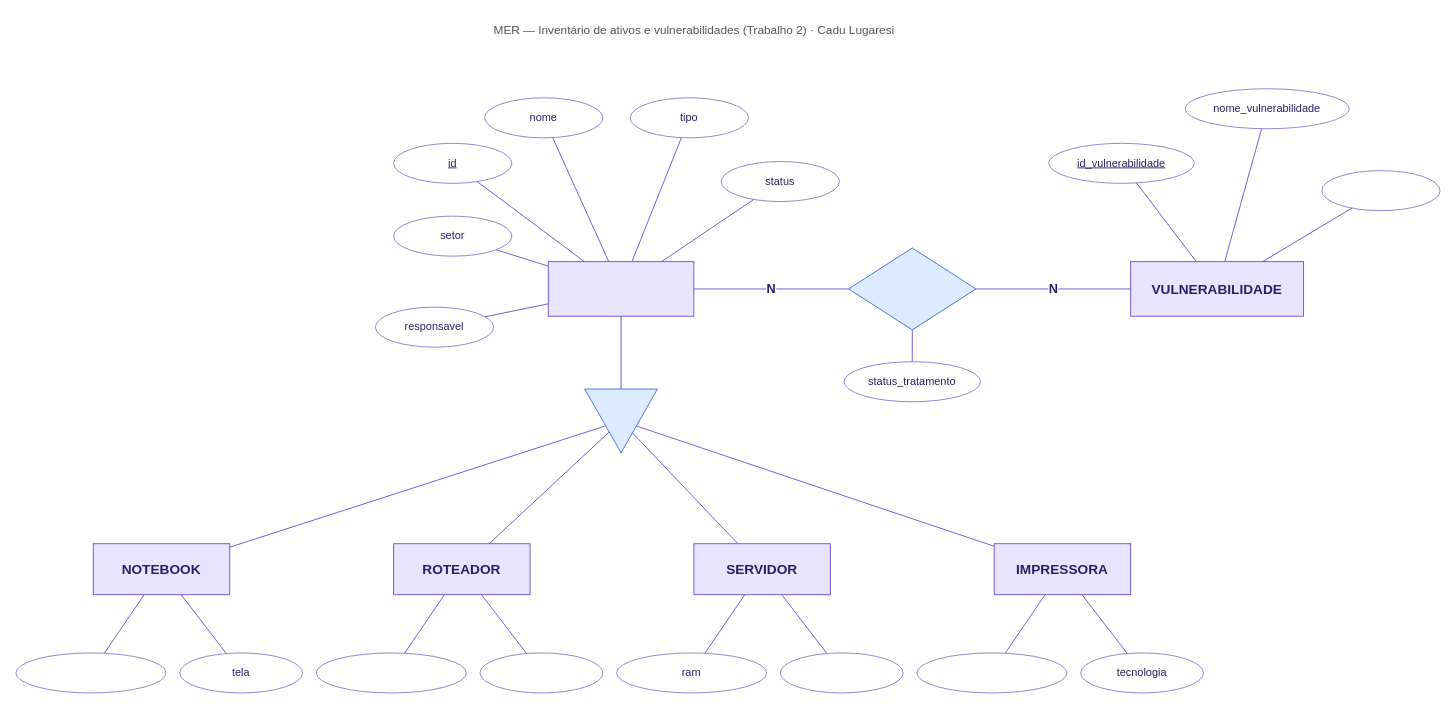
This 1456x709 diagram has some shape labels left out. The box of each missing label's shape, as (x1, y1, x2, y2) in pixels:
armazenamento: (779, 652, 903, 693)
ATIVO: (547, 261, 694, 316)
cor: (916, 652, 1067, 693)
cvss: (1321, 170, 1440, 211)
portas: (315, 652, 466, 693)
possui: (848, 247, 976, 330)
sistema_operacional: (15, 652, 166, 693)
velocidade: (479, 652, 603, 693)
é um: (584, 388, 657, 453)
